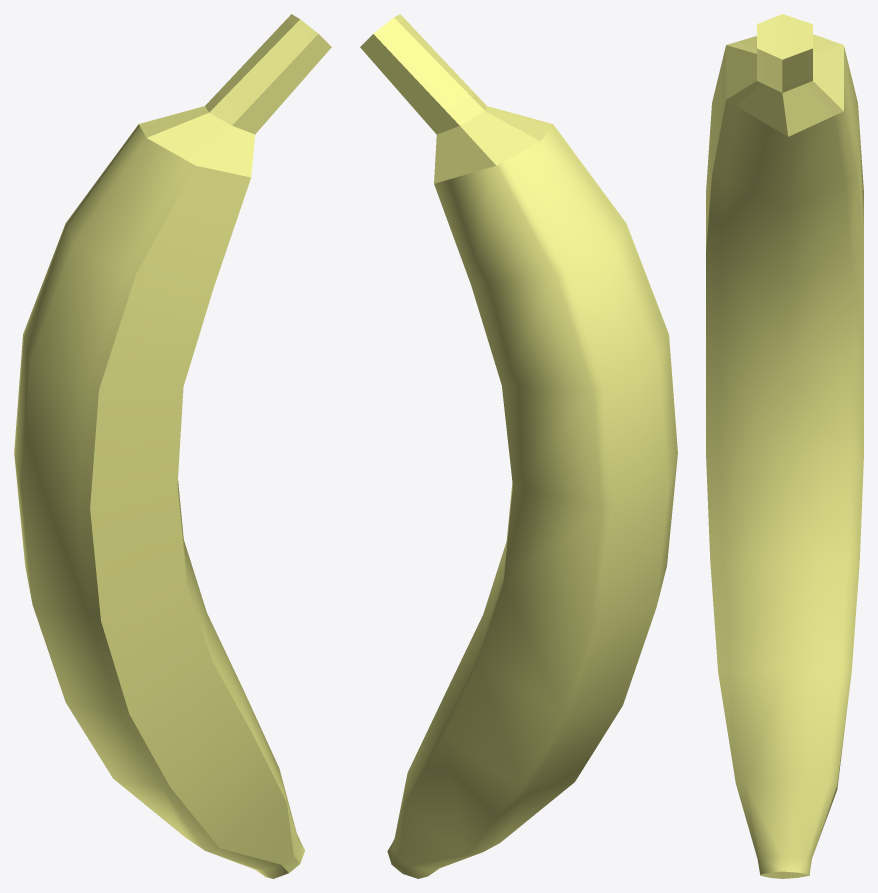
Rendered from banana.FBX.
The picture shows the model from 3 angles, left to right: view 1: azimuth 30°, elevation 25°; view 2: azimuth 150°, elevation 25°; view 3: azimuth 270°, elevation 25°; orthographic projection. The views are drawn at different scales.
Visible parts, largest first — view 1: Line01; view 2: Line01; view 3: Line01.
Part boxes in pixels (box(x1,y1,x2,y2)): Line01: box(14, 14, 331, 878); Line01: box(360, 14, 677, 878); Line01: box(706, 14, 863, 878).
Bounding box in the file's own units: 6.46 × 17.43 × 2.82.
